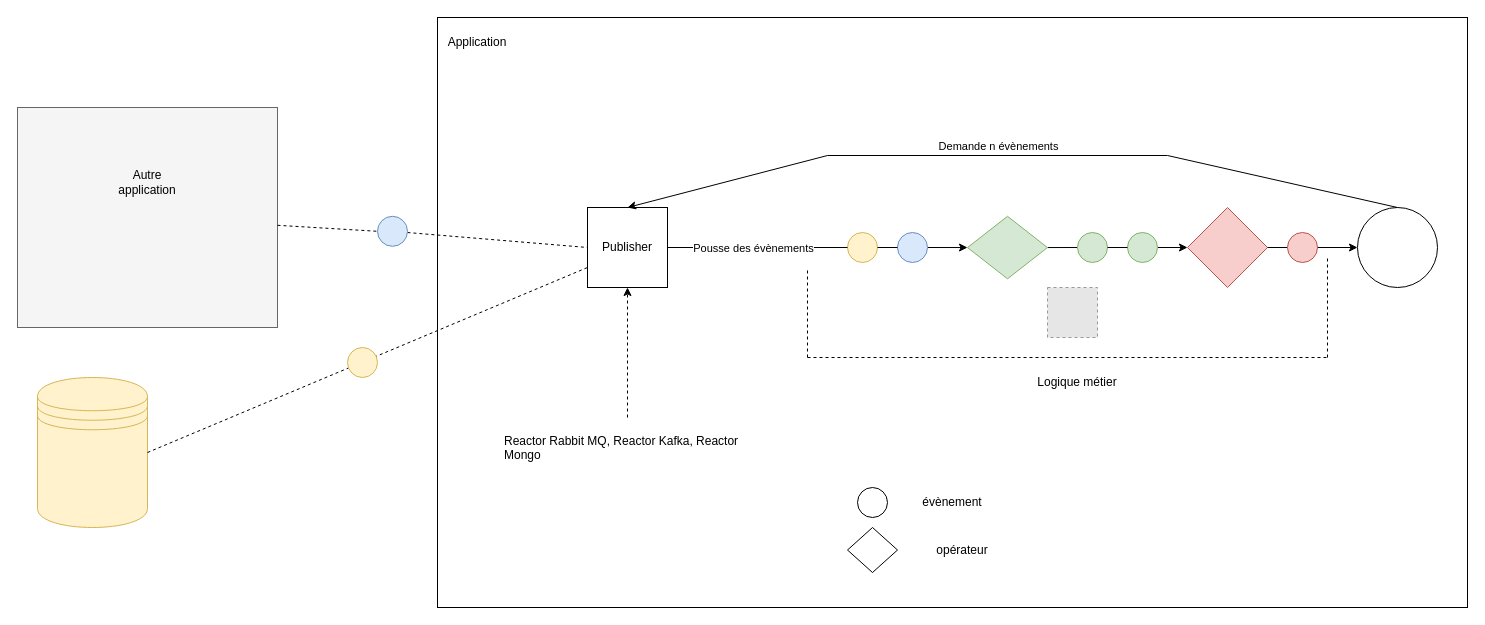
The diagram is 1485 pixels wide and 625 high, and some of its shapes have lost their labels. Grey dashed boxes stand in for pictures. Each missing label, with the box of its shape:
Base de données: (36, 376, 148, 528)
Subscriber: (1356, 206, 1438, 288)
